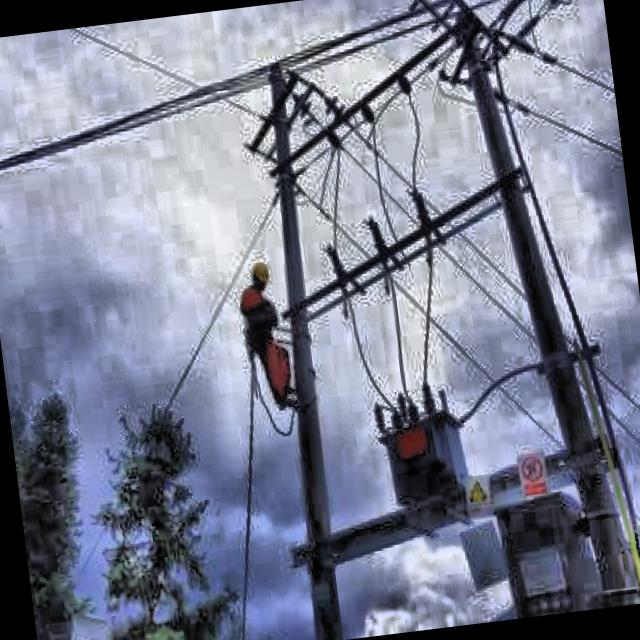helmet: (247, 254, 274, 296)
